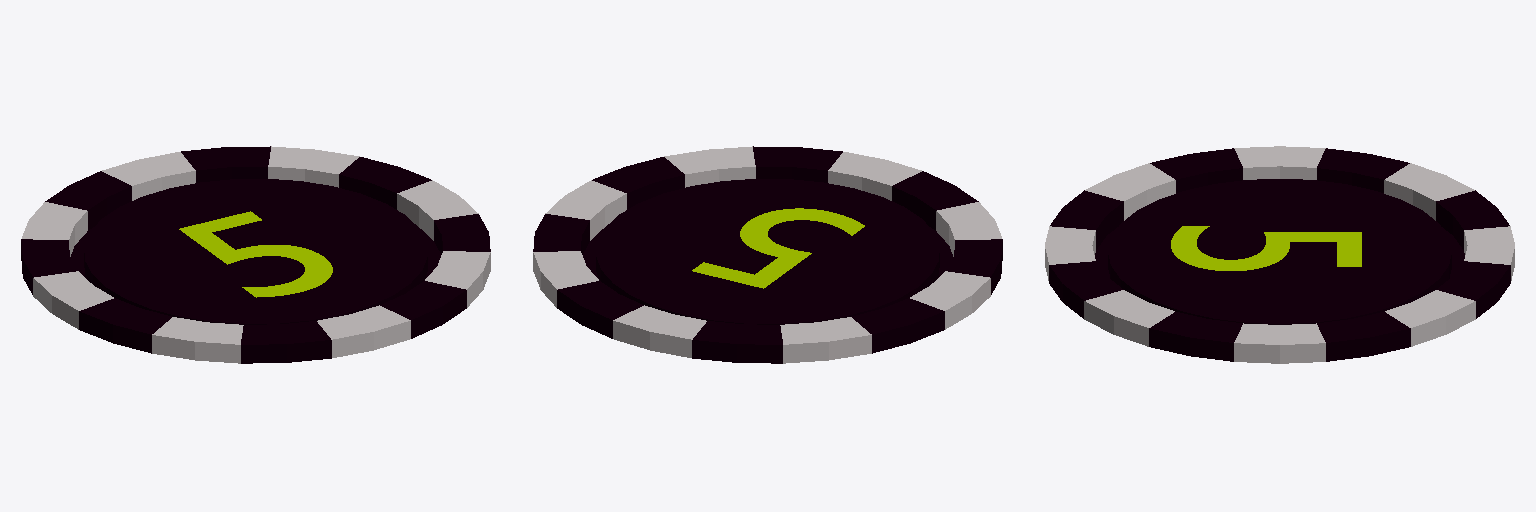
The picture shows the model from 3 angles: view 1: azimuth 30°, elevation 25°; view 2: azimuth 150°, elevation 25°; view 3: azimuth 270°, elevation 25°; orthographic projection.
Visible parts, largest first — view 1: Cylinder, tekst; view 2: Cylinder, tekst; view 3: Cylinder, tekst.
Boxes of the visible parts, box(x1,y1,x2,y2) form: Cylinder: box(21, 146, 490, 363); tekst: box(179, 211, 332, 297); Cylinder: box(533, 146, 1002, 363); tekst: box(692, 208, 864, 288); Cylinder: box(1045, 146, 1514, 363); tekst: box(1171, 226, 1361, 270).
Size of the model in its own units: 1.33 by 0.0642 by 1.33.